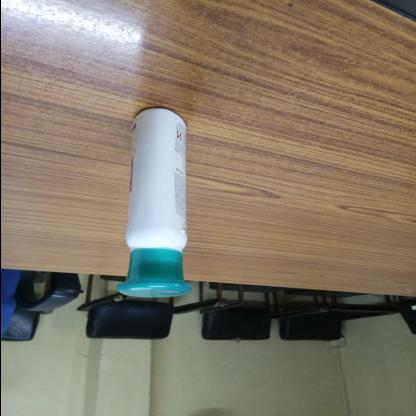bottle: (6, 271, 264, 331)
